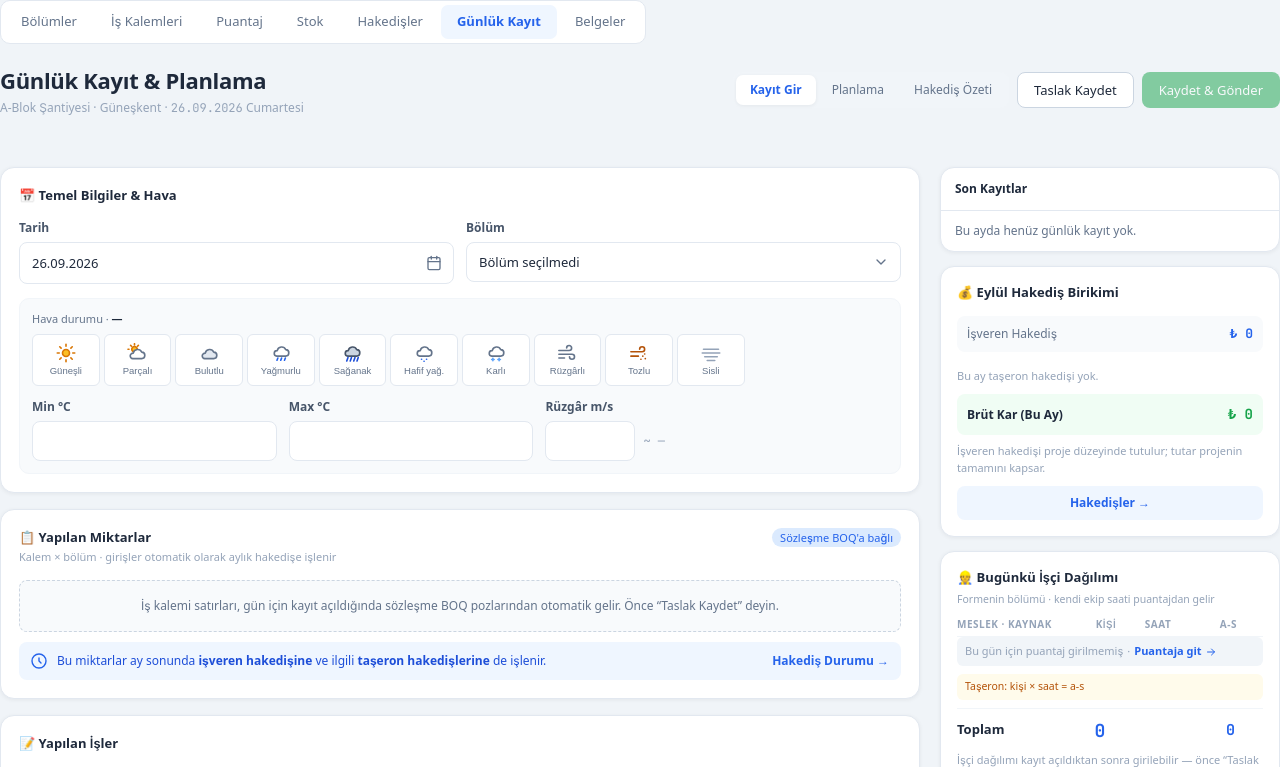
it: SiteDiaryEntryView · 409 akışı › 409 DIŞI hatada yönlendirme butonu basılmaz, hata mesajı görünür
Click the button "Taslak Kaydet": click(1075, 90) [1017,72,1134,108]
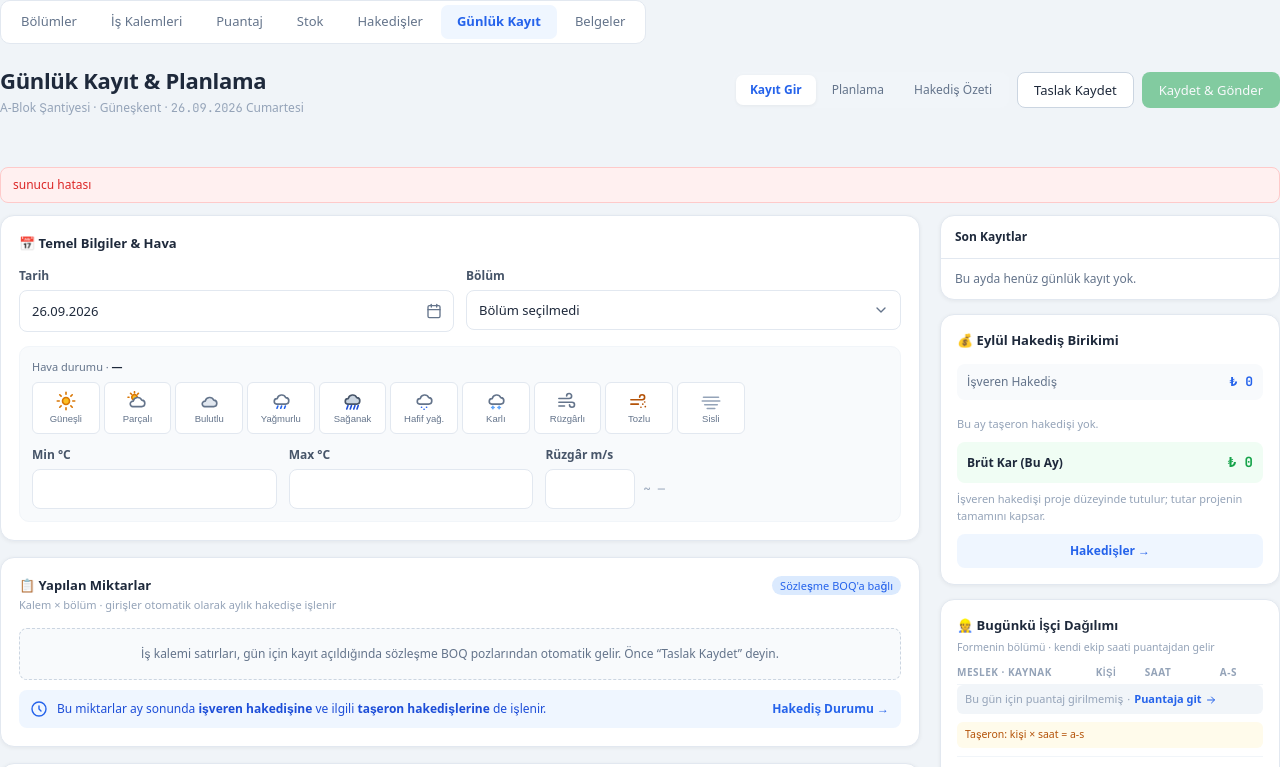
expect the text "sunucu hatası" is shown: met, box [13,176,91,194]
